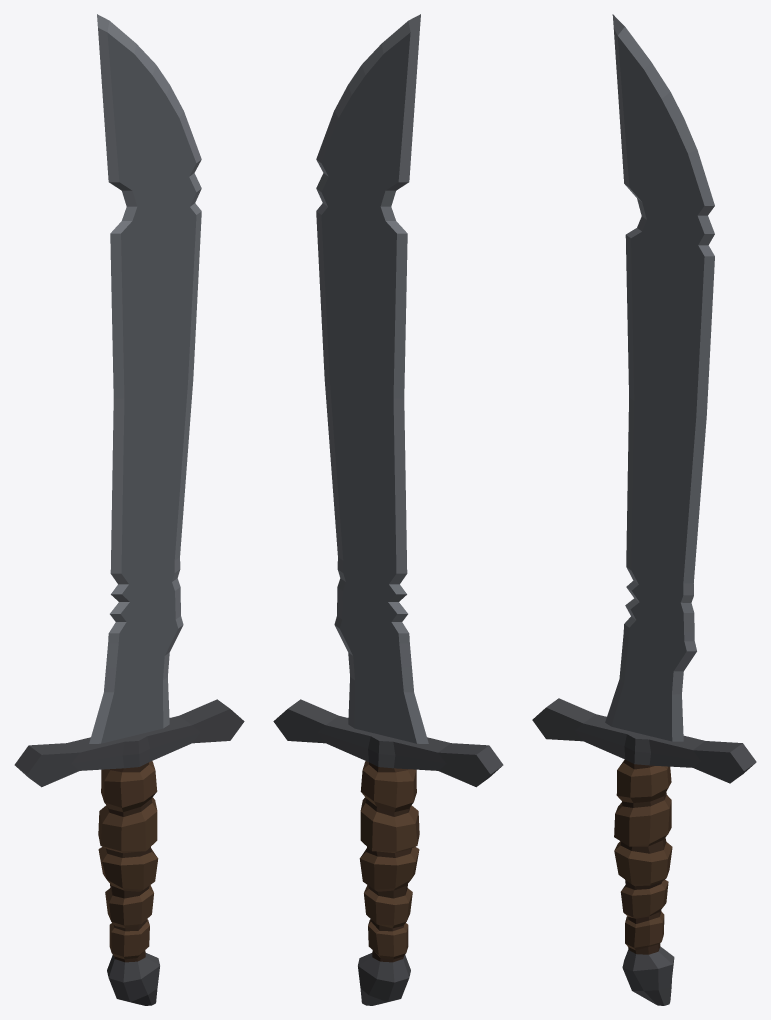
Rendered from sword.glb.
3 views of the same model, side by side, from view 1: azimuth 30°, elevation 25°; view 2: azimuth 150°, elevation 25°; view 3: azimuth 330°, elevation 25° (orthographic). The views are drawn at different scales.
Parts seen in each view (by area): view 1: Sword_2; view 2: Sword_2; view 3: Sword_2.
Part boxes in pixels (bbox=[...]): Sword_2: bbox=[14, 14, 244, 1005]; Sword_2: bbox=[273, 14, 503, 1005]; Sword_2: bbox=[532, 14, 756, 1005].
Size of the model in its own units: 0.2158 by 0.95 by 0.055.
